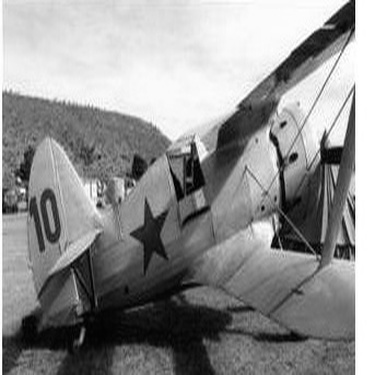airplane: (5, 2, 353, 372)
